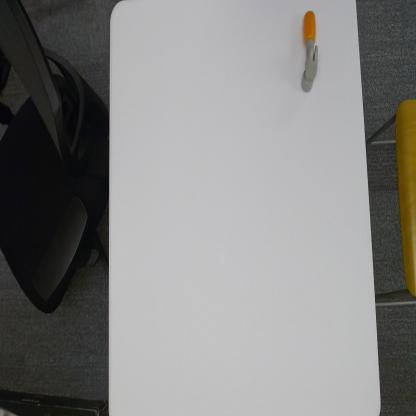Hammer: (301, 10, 319, 94)
